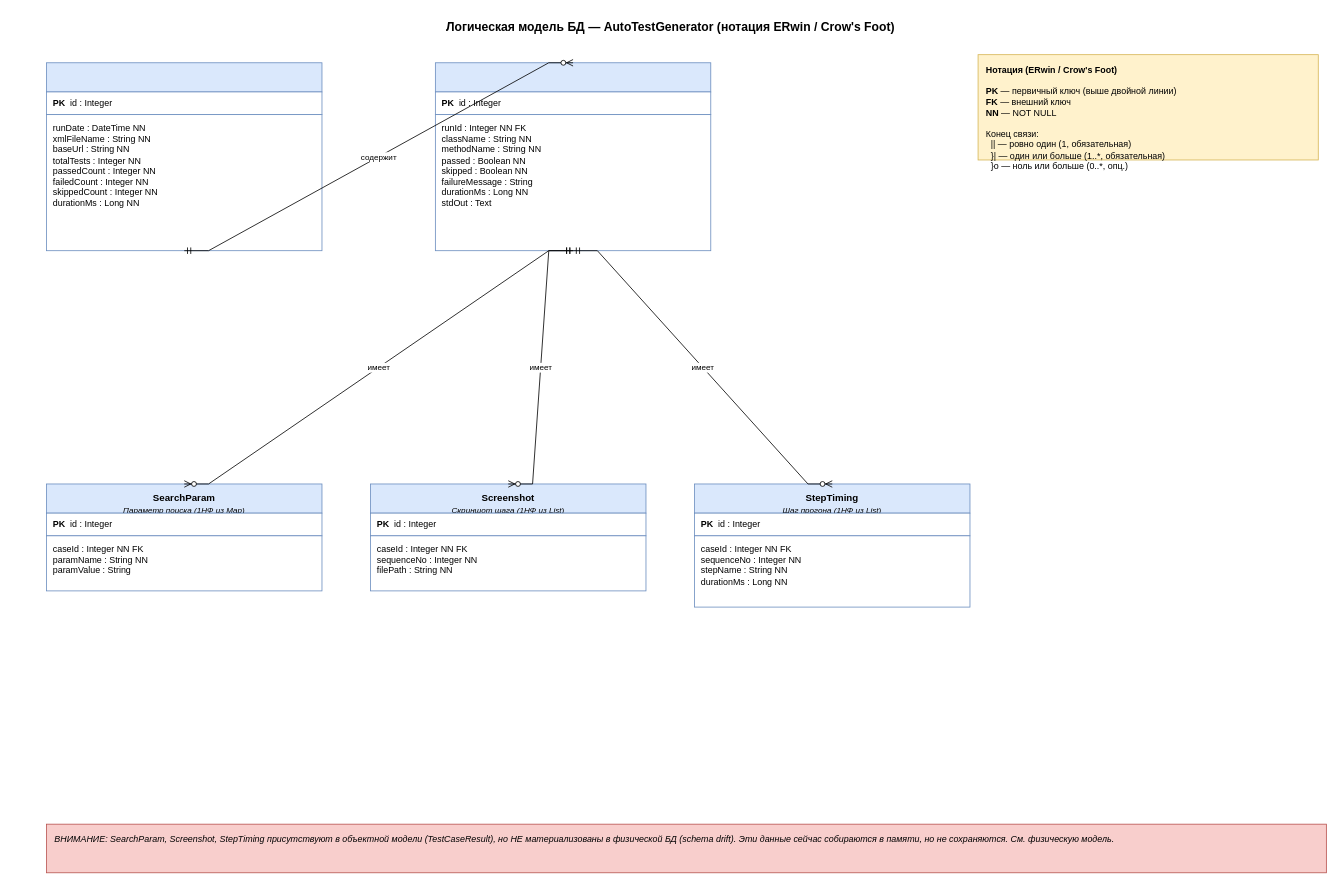
This 1341x887 diagram has some shape labels left out. The shapes that lost their labels are listed below. From the top down, each one's centre as x and y in pixels, then its label:
the point at 184,77: TestRun Прогон тестов
the point at 573,77: TestCase Результат одного тестового метода
